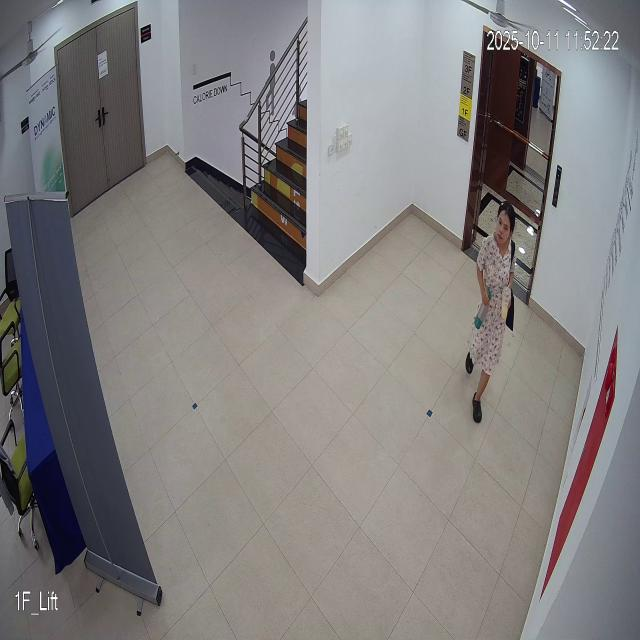face: (490, 199, 521, 255)
